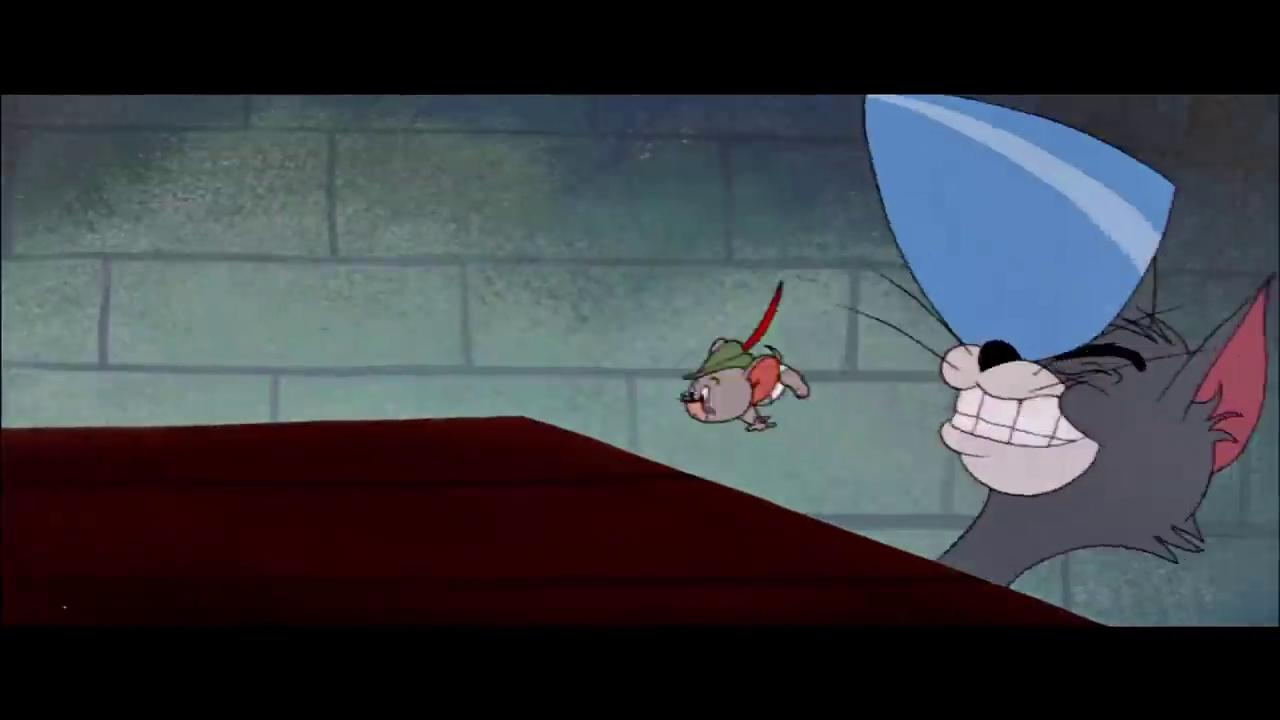Tom: (915, 269, 1274, 589)
